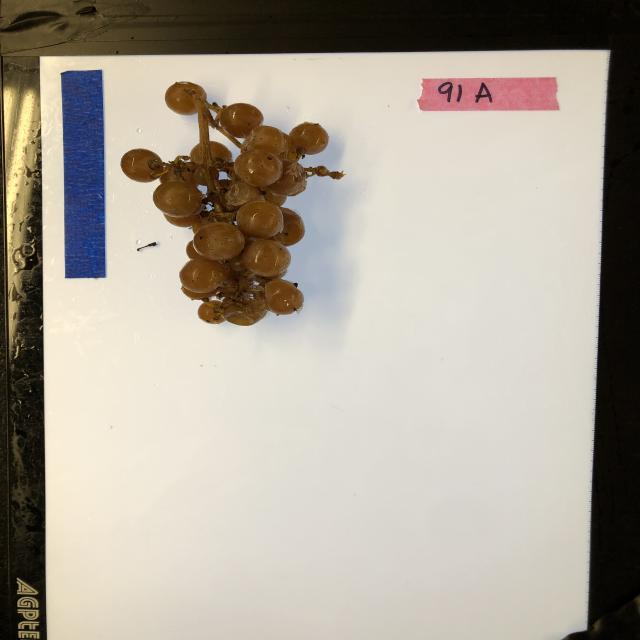grape_cluster: (119, 79, 348, 327)
index: (417, 76, 560, 110)
measure_label: (60, 68, 110, 279)
